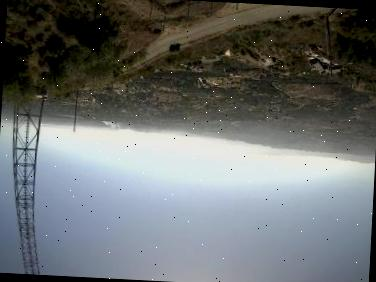smoke: (101, 121, 131, 138)
